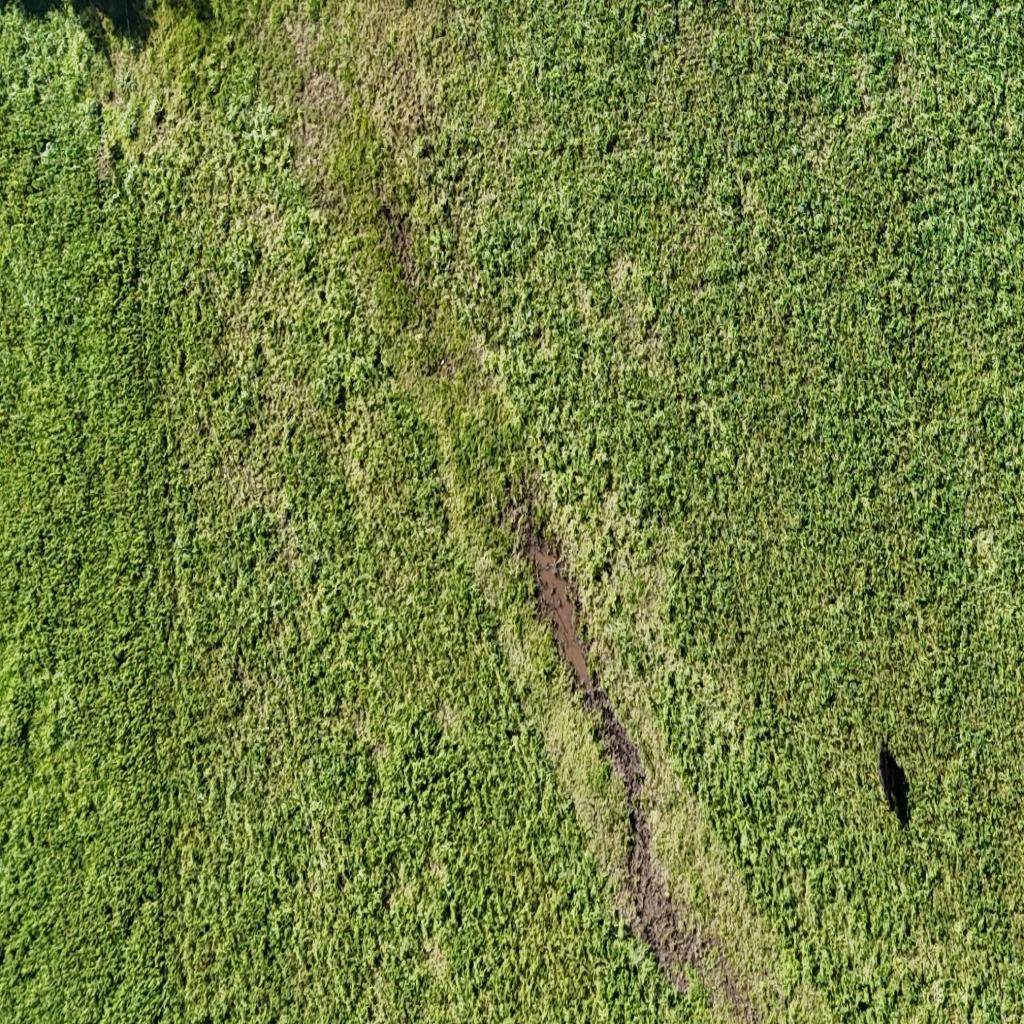cow: (879, 745, 909, 828)
